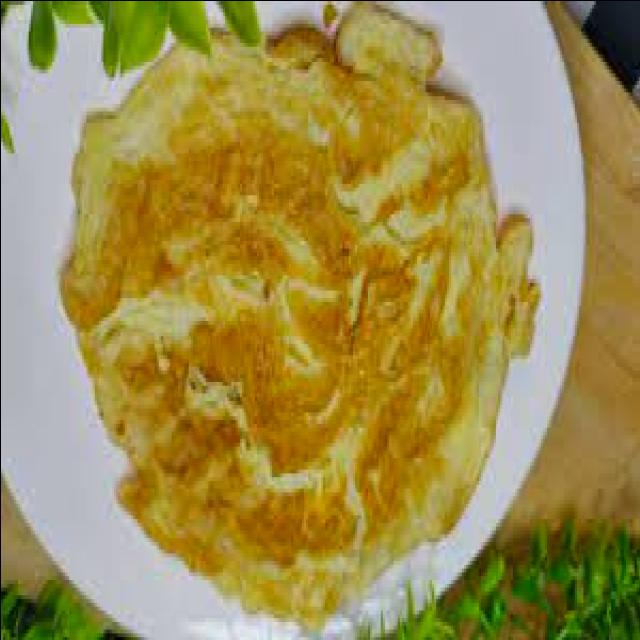telur dadar: (58, 0, 540, 636)
